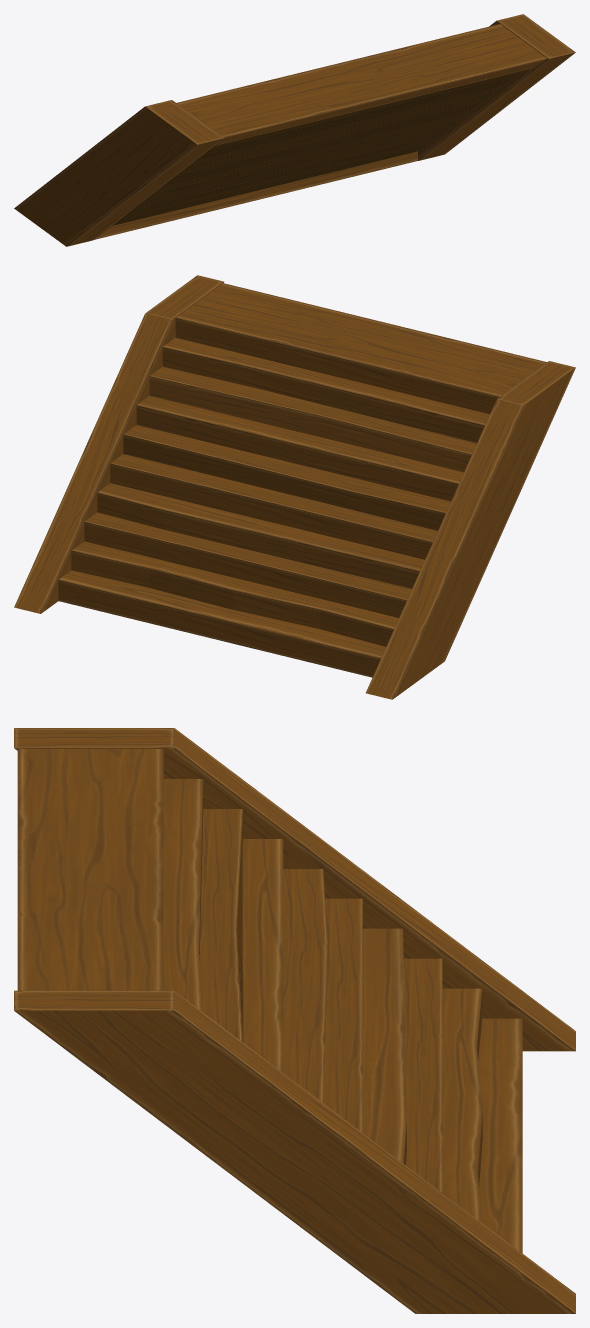
File: SM_Stairs_Interior_C_01.fbx
3 views of the same model, one above another, from view 1: azimuth 30°, elevation 25°; view 2: azimuth 150°, elevation 25°; view 3: azimuth 270°, elevation 25° (orthographic). The views are drawn at different scales.
Parts seen in each view (by area): view 1: SM_Stairs_Interior_C_01; view 2: SM_Stairs_Interior_C_01; view 3: SM_Stairs_Interior_C_01.
Part boxes in pixels (x1,y1,x2,y2): SM_Stairs_Interior_C_01: (14,14,575,246); SM_Stairs_Interior_C_01: (14,275,575,699); SM_Stairs_Interior_C_01: (14,728,575,1313).
Size of the model in its own units: 3 by 1.5 by 2.52.
